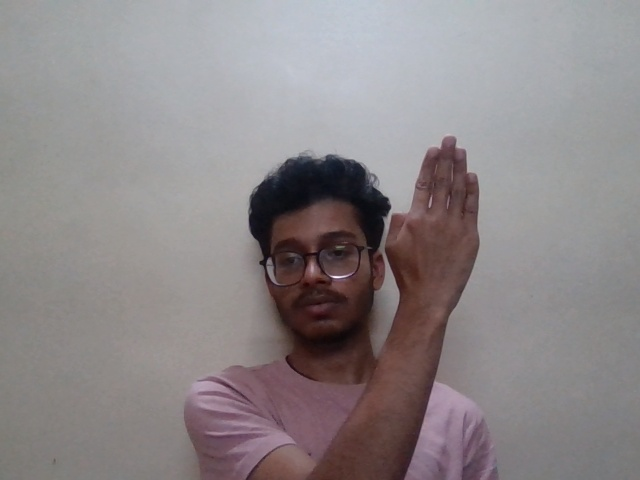good-bye: (377, 122, 499, 351)
